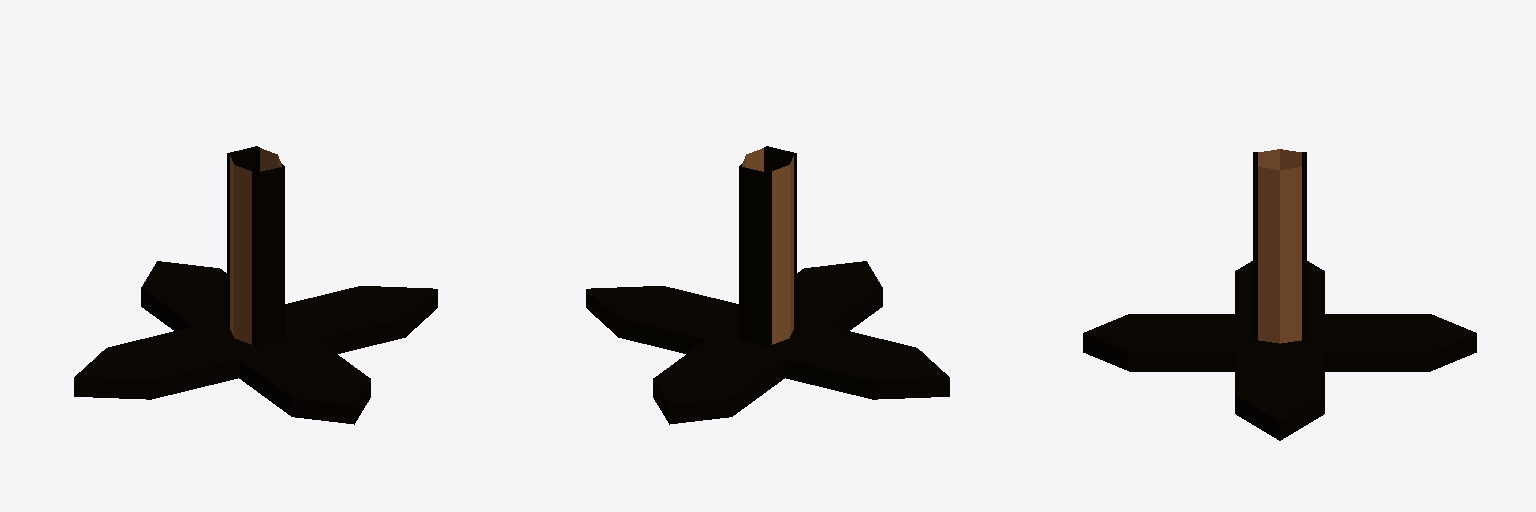
The model's file is BallistaStand.obj.
3 renders of one model, left to right at view 1: azimuth 30°, elevation 25°; view 2: azimuth 150°, elevation 25°; view 3: azimuth 270°, elevation 25°, orthographic.
Visible parts, largest first — view 1: Stand BallistaLower; view 2: Stand BallistaLower; view 3: Stand BallistaLower.
Boxes of the visible parts, box(x1,y1,x2,y2) form: Stand BallistaLower: box(74, 146, 437, 424); Stand BallistaLower: box(586, 146, 949, 424); Stand BallistaLower: box(1083, 149, 1476, 440).
Size of the model in its own units: 227 by 115 by 213.